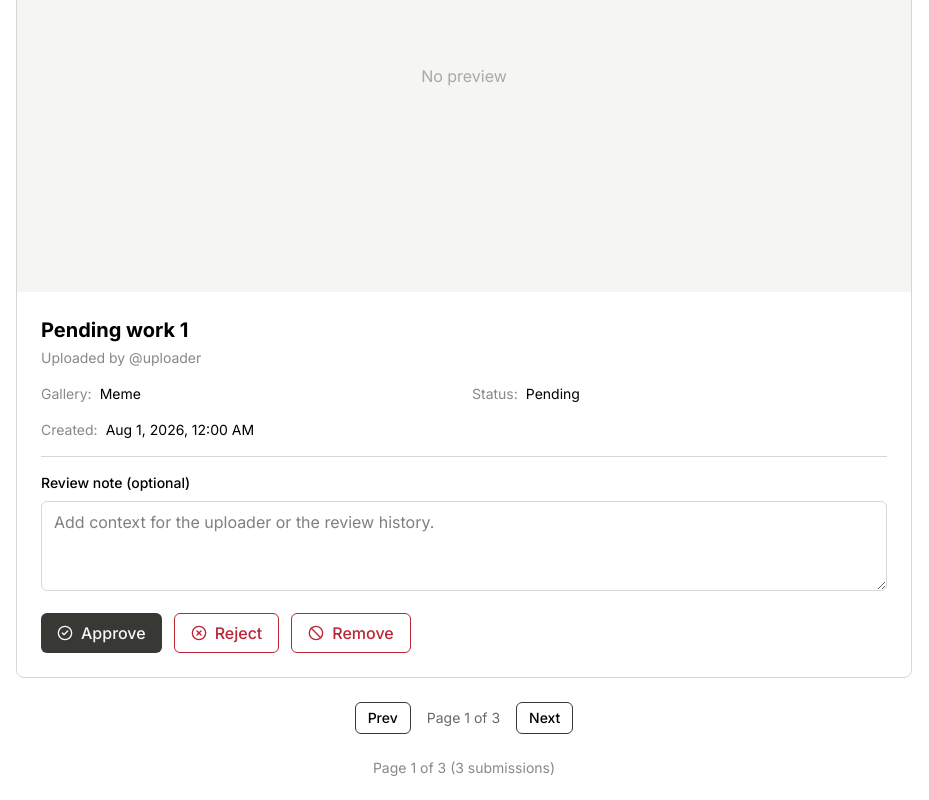
ModerationPage › moves through the queue one submission at a time
(page scrolled)
expect the heading "Pending work 1" is shown: met, box left=41, top=318, right=188, bottom=342
expect the text "Page 1 of 3" is shown: met, box left=427, top=708, right=500, bottom=728
Click the button "Next" at point(545, 718), box left=516, top=702, right=573, bottom=734
(page scrolled)
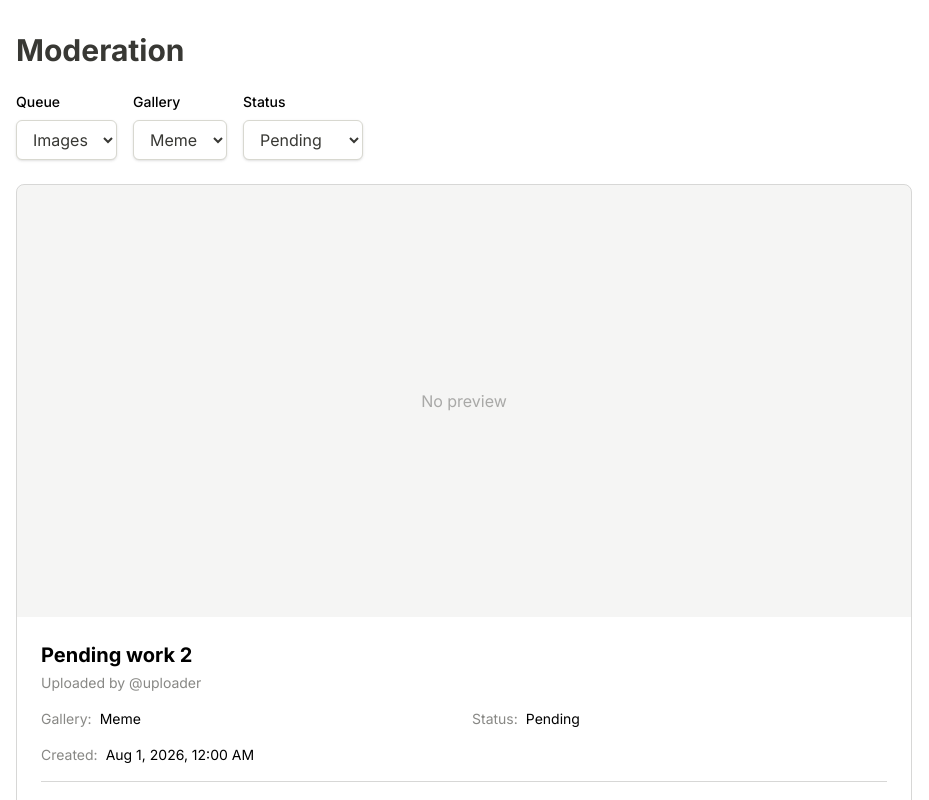
expect the heading "Pending work 2" is shown: met, box left=41, top=643, right=192, bottom=667
